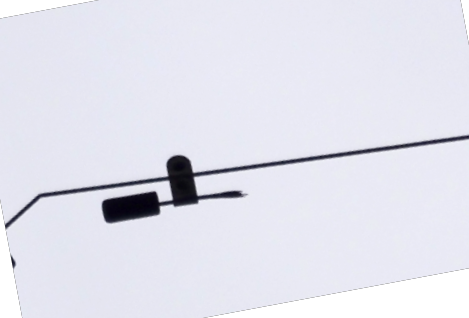damper_defect: (92, 149, 250, 229)
